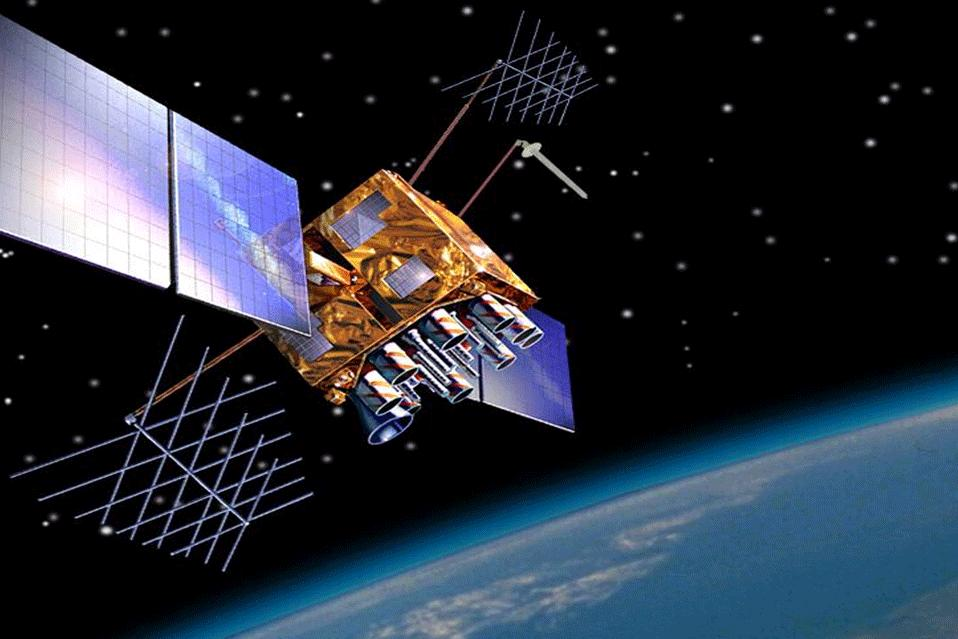antenna: (8, 311, 318, 576), (438, 8, 602, 129), (514, 137, 592, 202)
body: (249, 166, 543, 409)
solar: (0, 10, 314, 339), (449, 304, 577, 435), (327, 187, 395, 251), (279, 309, 338, 366), (382, 253, 439, 301)
thruster: (346, 385, 417, 448)
